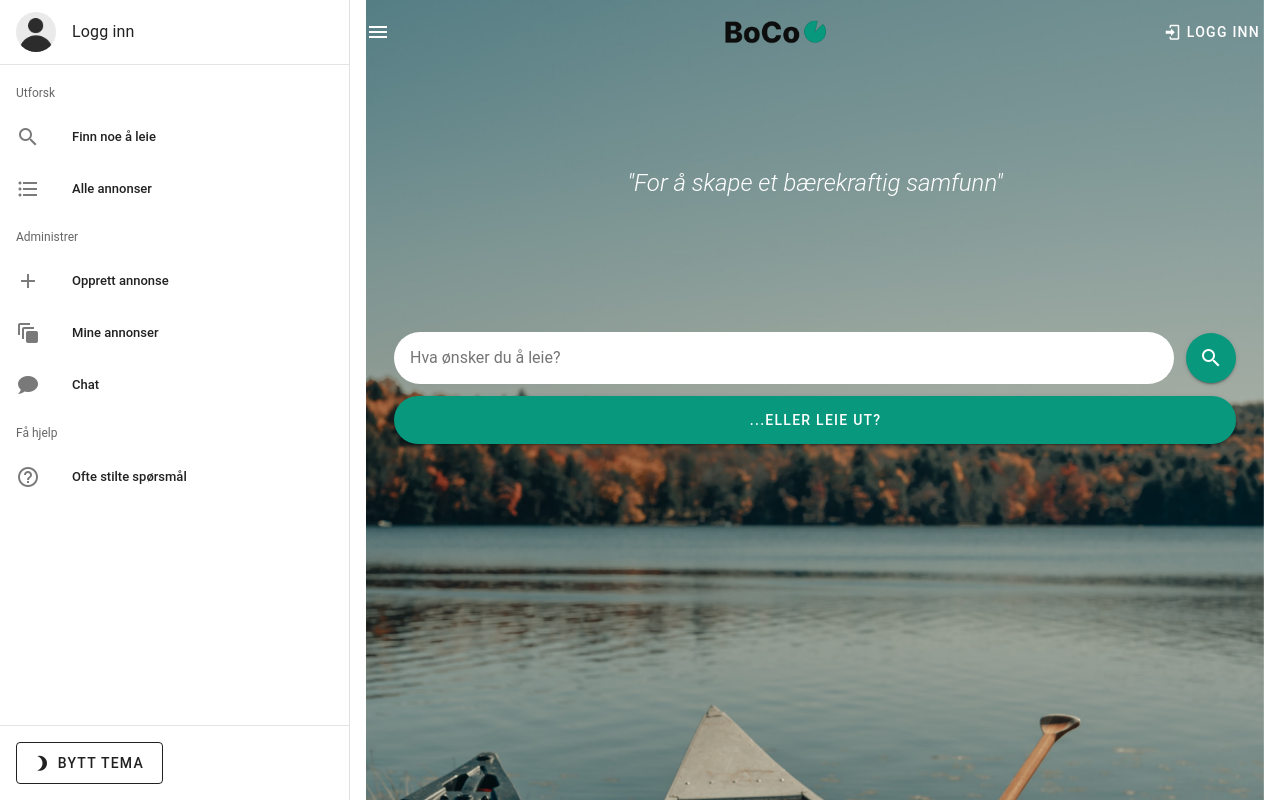
Verify NavBar Functionality › Test Update Navbar At Login
Click the button with test id "navbar-login-button" at [1213, 32], box [1148,14,1277,50]
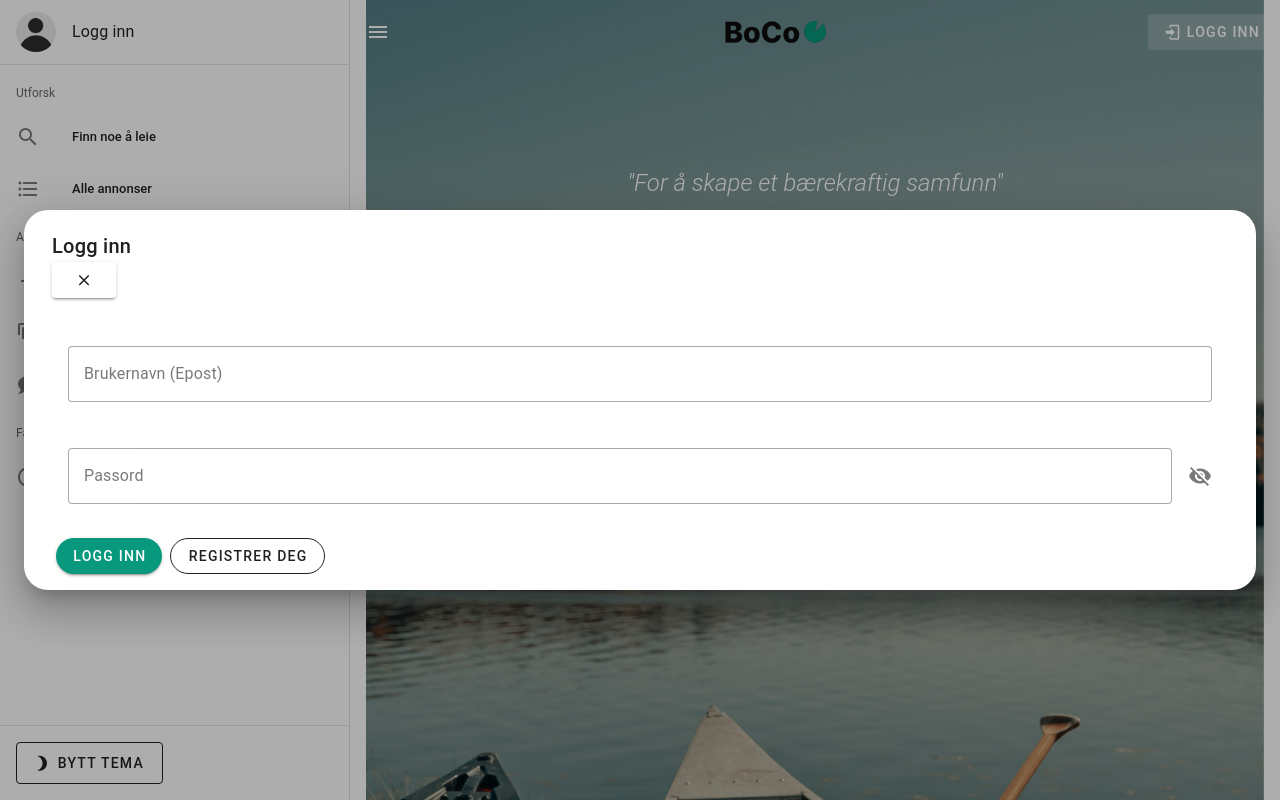
Type "john@doe.org" into the element with test id "username" at [640, 385], box [68,346,1212,424]
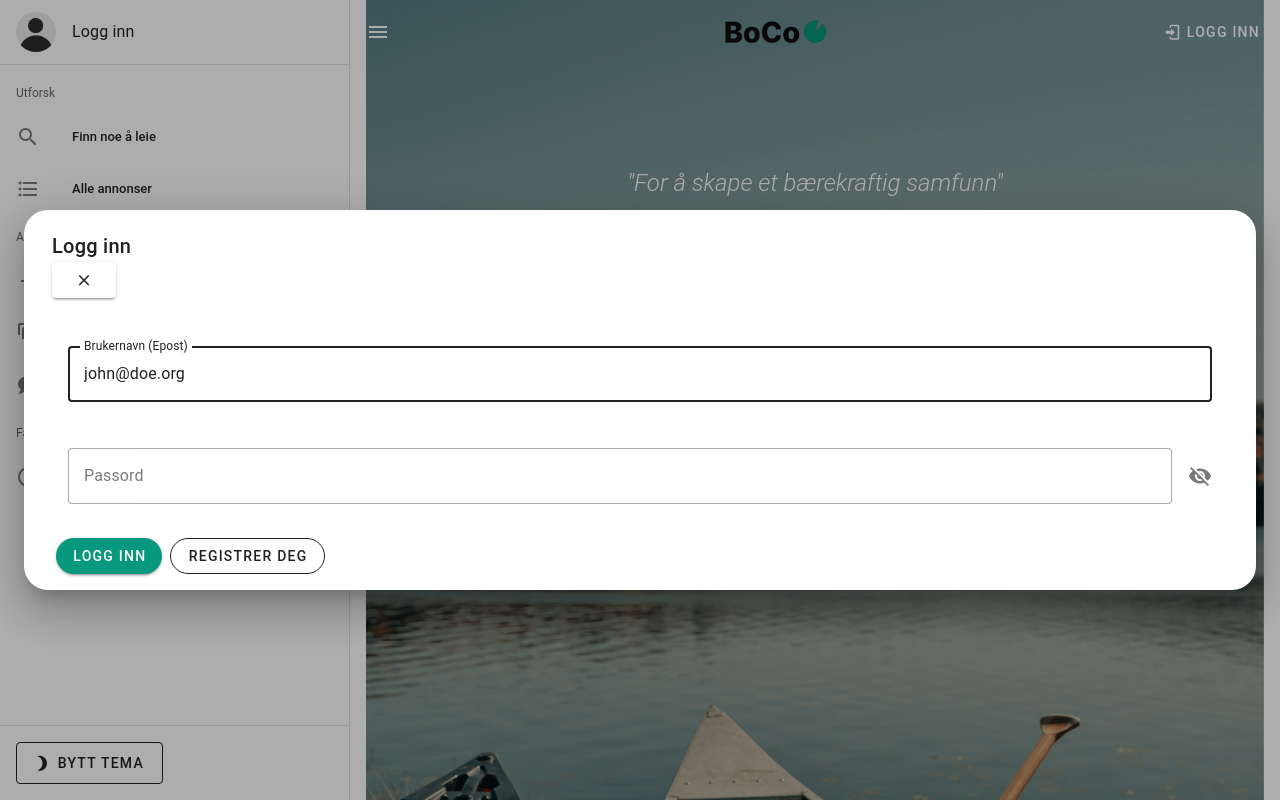
Type "password" into the element with test id "password" at [640, 487], box [68,448,1212,526]
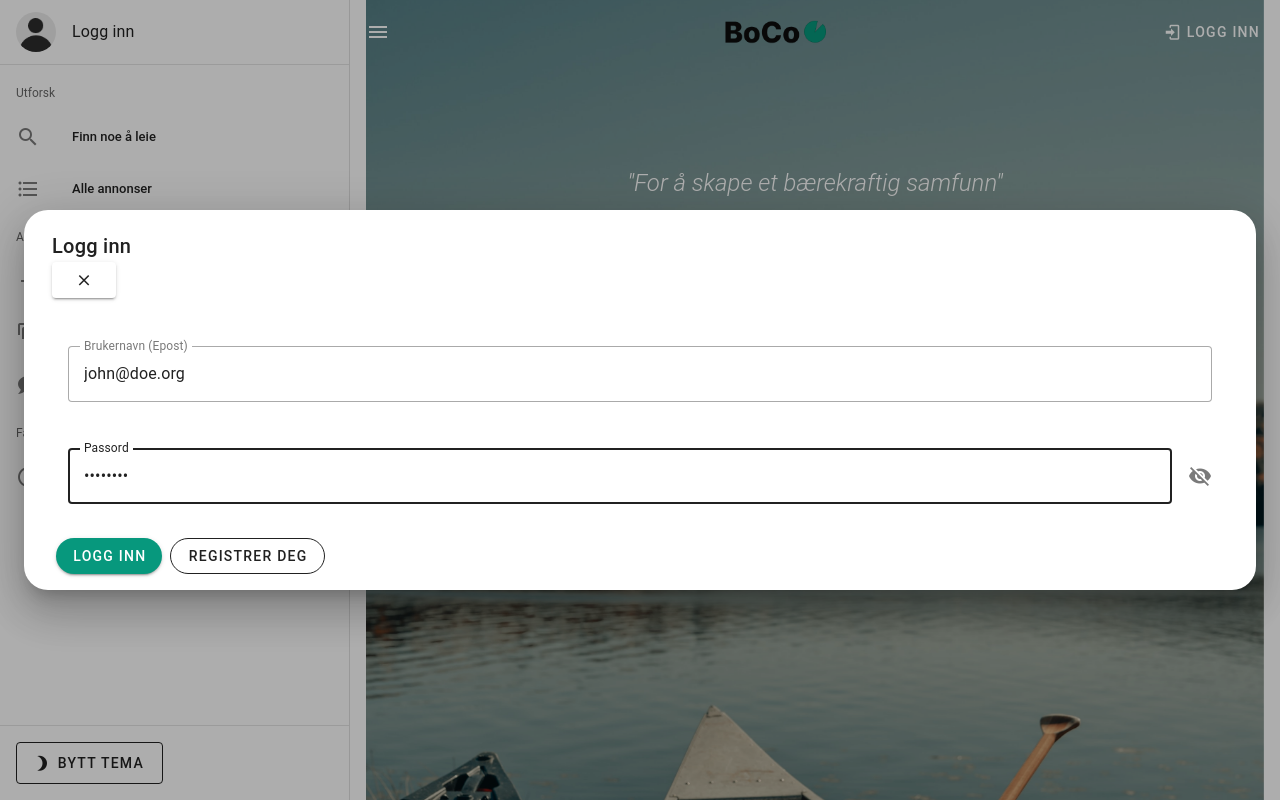
Note: Login user, wait for API-Calls
Click the button with test id "submit" at [110, 556], box [56,538,163,574]
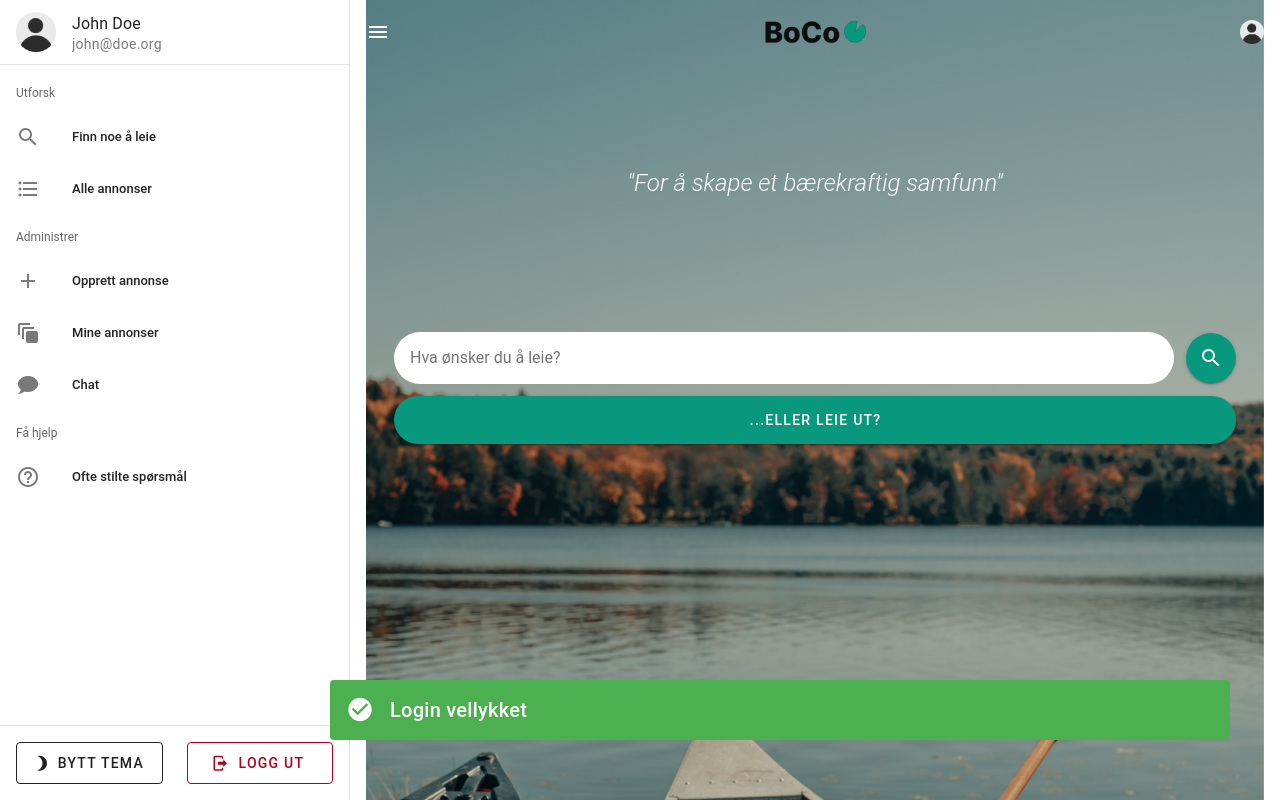
Expected: the element with test id "navdrawer-login-button" is gone
Expected: the element with test id "navdrawer-user-card" is shown, [16,12,162,52]
Expected: the button with test id "navbar-login-button" is gone
